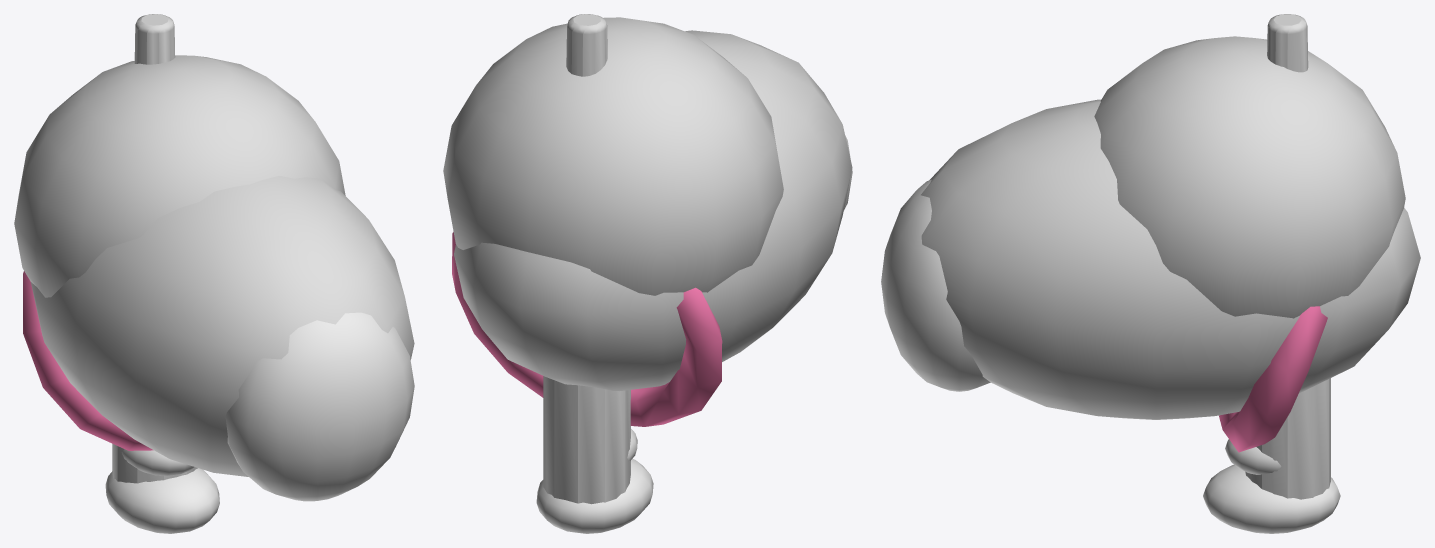
The model's file is pets.glb.
3 views of the same model, side by side, from view 1: azimuth 30°, elevation 25°; view 2: azimuth 150°, elevation 25°; view 3: azimuth 270°, elevation 25° (orthographic). The views are drawn at different scales.
Visible parts, largest first — view 1: dog_body, dog_head, dog_leg, dog_collar, cat_tail, cat_leg; view 2: dog_head, dog_body, dog_leg, dog_collar, cat_tail; view 3: dog_body, dog_head, dog_leg, dog_collar, cat_tail, cat_leg.
Boxes of the visible parts, left/top/right/bottom form: dog_body: left=31, top=176, right=414, bottom=501; dog_head: left=14, top=55, right=345, bottom=297; dog_leg: left=105, top=444, right=219, bottom=533; dog_collar: left=23, top=271, right=153, bottom=450; cat_tail: left=134, top=14, right=175, bottom=64; cat_leg: left=121, top=449, right=193, bottom=475; dog_head: left=443, top=17, right=783, bottom=295; dog_body: left=454, top=30, right=852, bottom=391; dog_leg: left=536, top=376, right=653, bottom=533; dog_collar: left=452, top=232, right=722, bottom=426; cat_tail: left=566, top=14, right=607, bottom=76; dog_body: left=881, top=99, right=1420, bottom=419; dog_head: left=1094, top=36, right=1405, bottom=318; dog_leg: left=1203, top=378, right=1340, bottom=533; dog_collar: left=1219, top=306, right=1327, bottom=452; cat_tail: left=1267, top=14, right=1308, bottom=72; cat_leg: left=1225, top=439, right=1281, bottom=474.
Size of the model in its own units: 0.26 by 0.4252 by 0.411.
